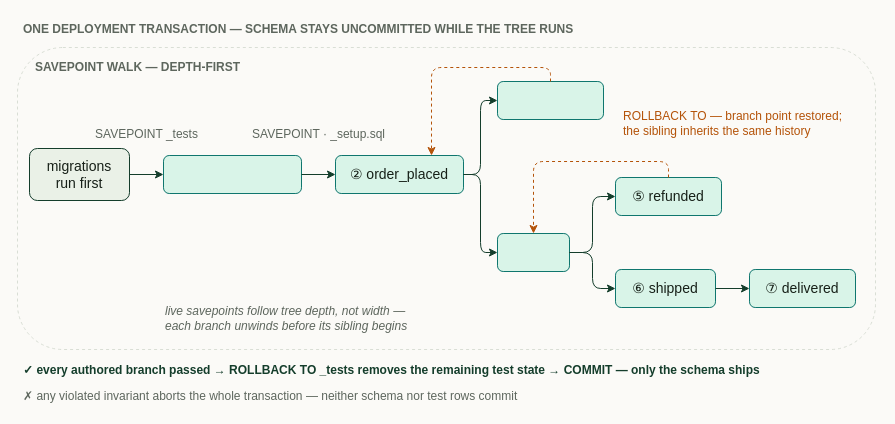
Image size: 895x424. Some labels were removed from this diagram. Here are the shapes that lost their labels. From the top down, the box of each, then its label:
(496, 80, 604, 120): ③ cancelled
(162, 154, 302, 194): ① root — in stock
(496, 232, 570, 272): ④ paid
